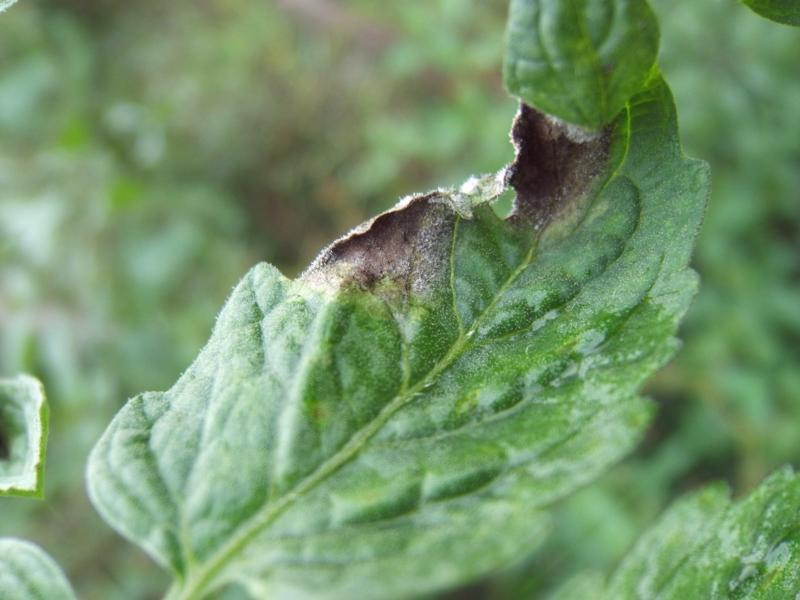Tomato leaf late blight: (28, 0, 800, 600)
